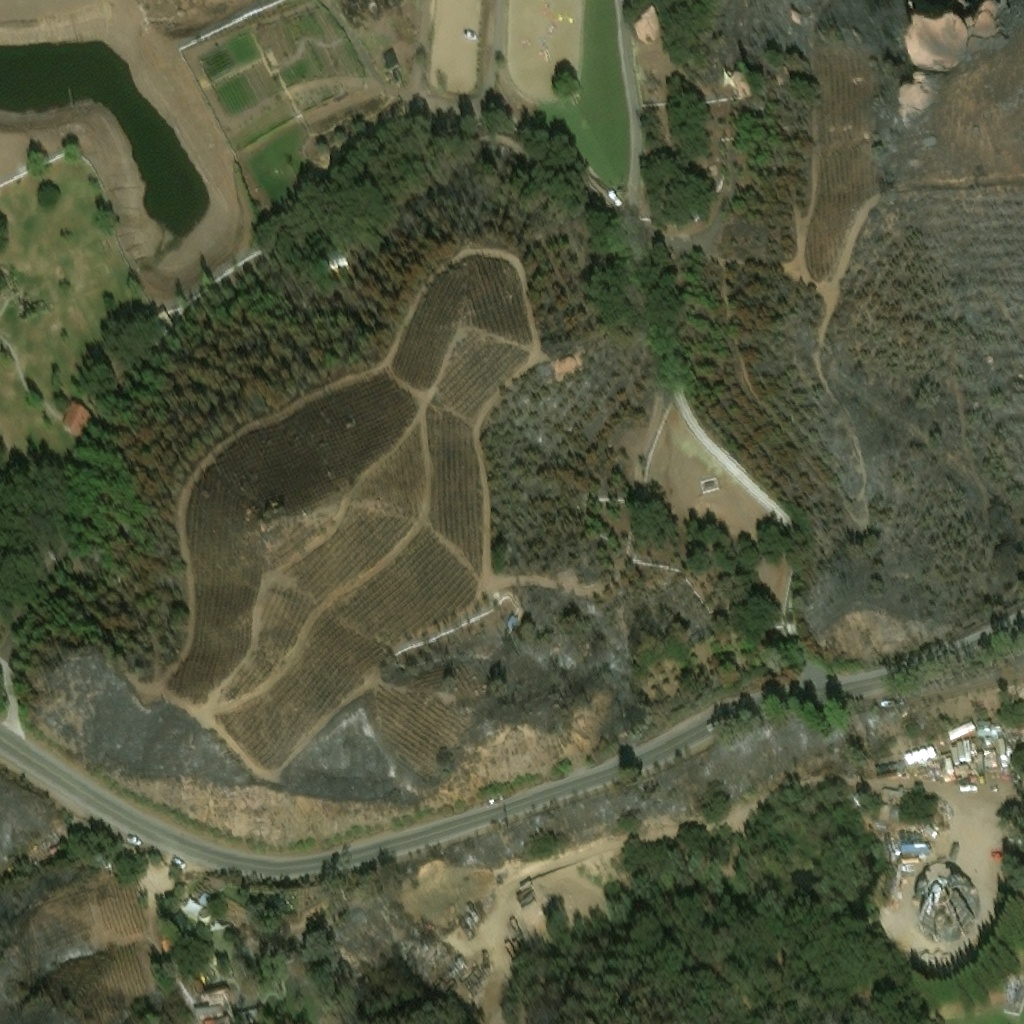0 no-damage: (58, 395, 89, 430), (175, 892, 204, 920), (198, 983, 229, 1007), (518, 883, 539, 910), (207, 915, 231, 938), (946, 717, 974, 736), (327, 245, 346, 264), (153, 303, 171, 323), (190, 997, 217, 1008), (901, 843, 927, 854), (199, 1008, 226, 1018), (195, 887, 211, 903), (205, 972, 221, 983), (434, 110, 452, 119), (908, 748, 919, 757), (918, 745, 927, 756), (903, 749, 912, 759), (925, 743, 934, 752)
1 minor-damage: (505, 610, 519, 627)
2 major-damage: (874, 757, 889, 770), (885, 757, 896, 768), (894, 756, 906, 766)
3 destroyed: (413, 936, 445, 972), (721, 66, 751, 92), (439, 949, 463, 977), (412, 933, 437, 958), (453, 951, 473, 974), (433, 946, 453, 968), (575, 499, 592, 516)
4 un-classified: (251, 944, 281, 970), (280, 951, 305, 974), (852, 780, 873, 806), (878, 786, 908, 804), (234, 937, 254, 960), (261, 991, 277, 1011), (284, 988, 296, 1005), (148, 924, 160, 938), (147, 912, 156, 924)
